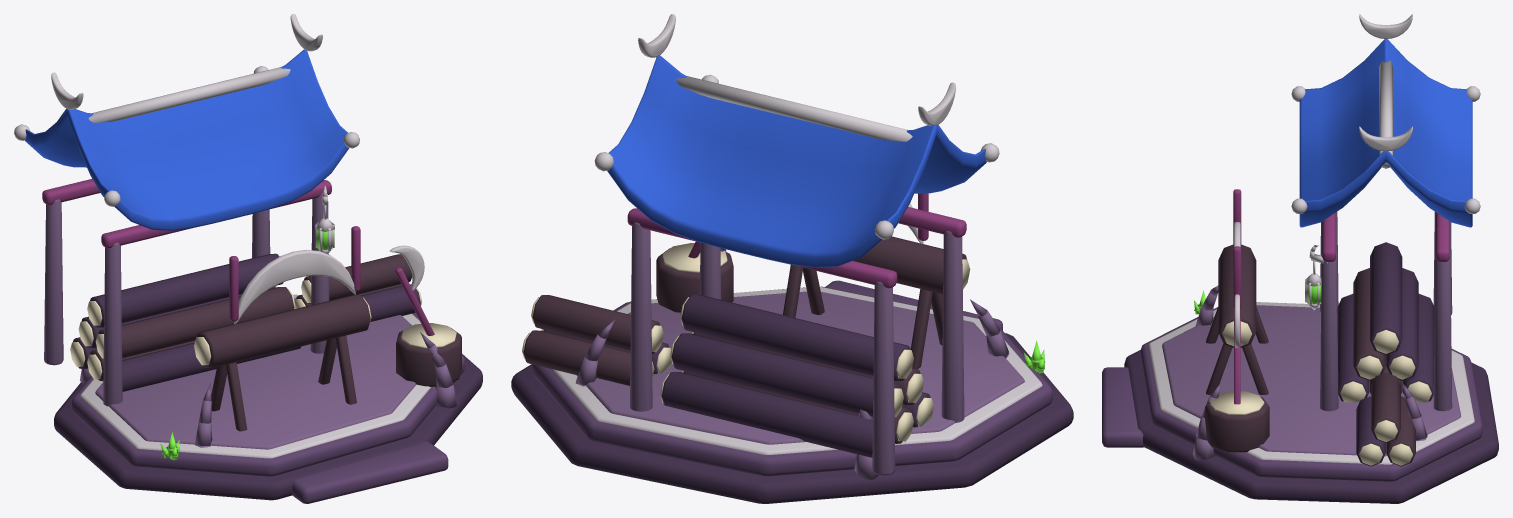
File: Lumberyard.glb
3 views of the same model, side by side, from view 1: azimuth 30°, elevation 25°; view 2: azimuth 150°, elevation 25°; view 3: azimuth 270°, elevation 25° (orthographic). The views are drawn at different scales.
Parts seen in each view (by area): view 1: Lumberyard; view 2: Lumberyard; view 3: Lumberyard.
Part boxes in pixels (x1,y1,x2,y2): Lumberyard: (14, 14, 482, 503); Lumberyard: (511, 14, 1073, 503); Lumberyard: (1102, 14, 1498, 503).
Bounding box in the file's own units: 3.19 × 2.65 × 2.93.
